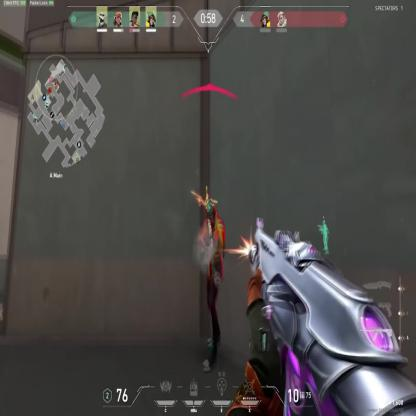enemy: (195, 202, 225, 371)
enemy_head: (206, 203, 216, 223)
